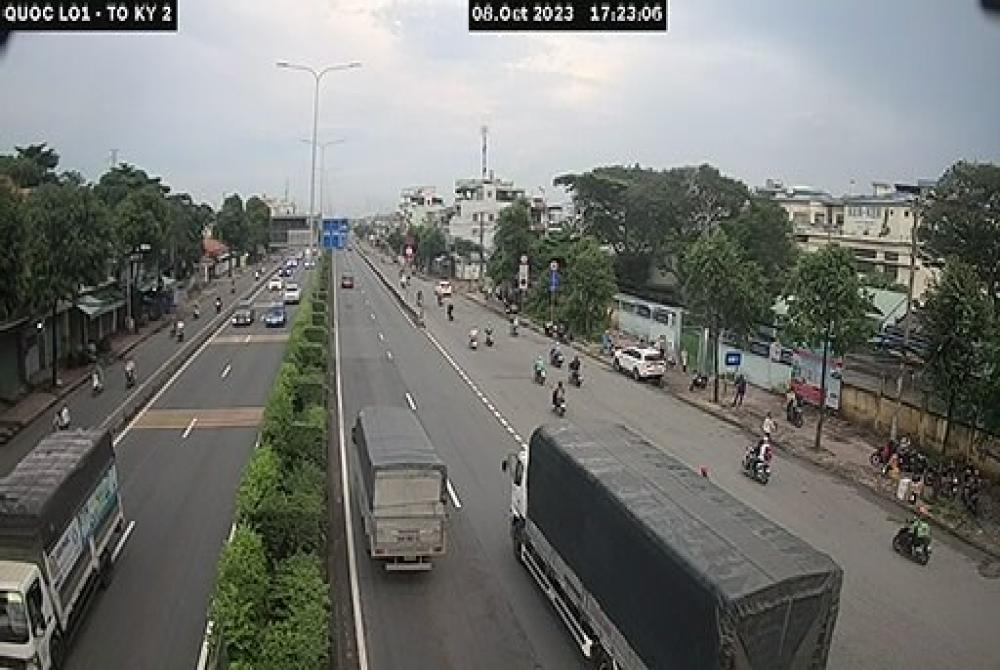car: (614, 344, 667, 381)
truck: (509, 420, 846, 670), (0, 428, 123, 670), (354, 405, 447, 570)
